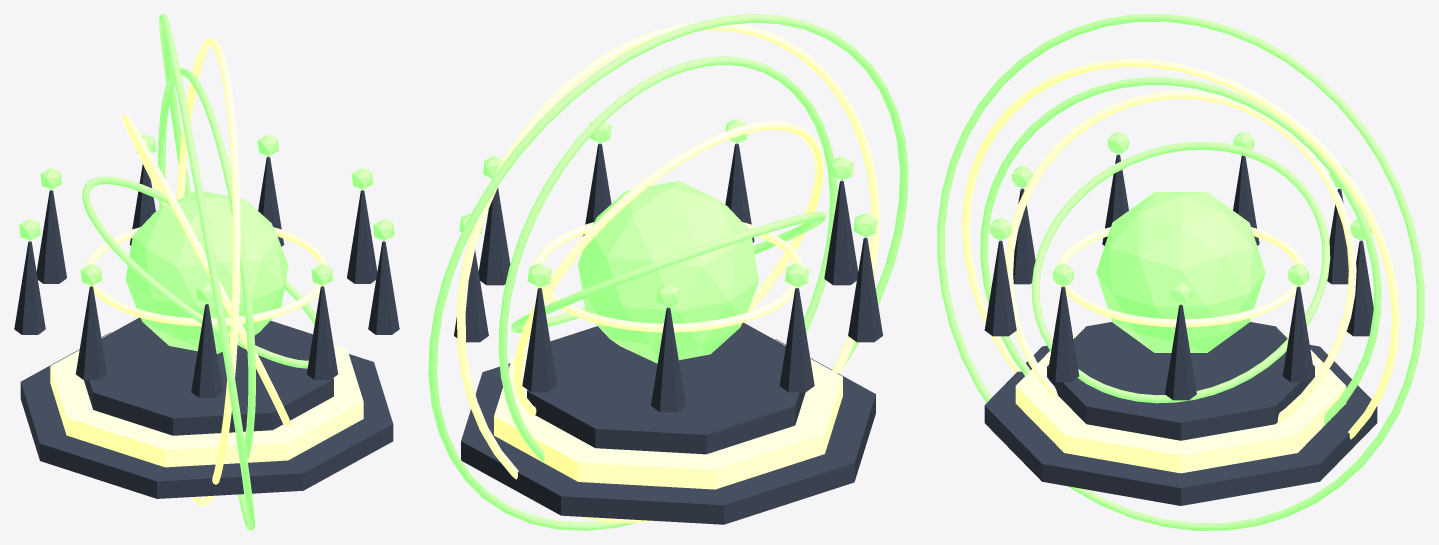
File: gpu-blender-v18.glb
3 renders of one model, left to right at view 1: azimuth 30°, elevation 25°; view 2: azimuth 150°, elevation 25°; view 3: azimuth 270°, elevation 25°, orthographic. The views are drawn at different scales.
Parts seen in each view (by area): view 1: Cylinder.002, Cylinder, SovereignCore_zoth-ascii-magic, Cylinder.001, Torus.005, Torus.004, Torus.003, Torus.001, Torus.002, Torus, Cone.006, Cone.004 (+7 smaller); view 2: Cylinder.002, SovereignCore_zoth-ascii-magic, Cylinder, Cylinder.001, Torus.005, Torus.004, Torus.003, Torus.002, Torus.001, Torus, Cone.003, Cone.005 (+7 smaller); view 3: SovereignCore_zoth-ascii-magic, Cylinder.002, Cylinder, Cylinder.001, Torus.005, Torus.004, Torus.003, Torus.002, Torus.001, Torus, Cone, Cone.001 (+7 smaller).
Part boxes in pixels (bbox=[...]): Cylinder.002: bbox=[84, 317, 333, 435]; Cylinder: bbox=[20, 332, 393, 498]; SovereignCore_zoth-ascii-magic: bbox=[125, 191, 288, 353]; Cylinder.001: bbox=[50, 324, 363, 467]; Torus.005: bbox=[159, 14, 254, 530]; Torus.004: bbox=[176, 38, 240, 506]; Torus.003: bbox=[158, 68, 255, 459]; Torus.001: bbox=[82, 176, 316, 368]; Torus.002: bbox=[122, 114, 290, 426]; Torus: bbox=[85, 227, 327, 326]; Cone.006: bbox=[191, 304, 222, 397]; Cone.004: bbox=[14, 241, 45, 334]; Cylinder.002: bbox=[527, 322, 805, 454]; SovereignCore_zoth-ascii-magic: bbox=[578, 181, 758, 363]; Cylinder: bbox=[461, 339, 875, 524]; Cylinder.001: bbox=[494, 330, 842, 489]; Torus.005: bbox=[428, 14, 908, 530]; Torus.004: bbox=[457, 22, 879, 523]; Torus.003: bbox=[498, 56, 838, 461]; Torus.002: bbox=[513, 121, 823, 415]; Torus.001: bbox=[511, 211, 825, 333]; Torus: bbox=[533, 222, 803, 332]; Cone.003: bbox=[651, 307, 685, 412]; Cone.005: bbox=[848, 237, 882, 342]; SovereignCore_zoth-ascii-magic: bbox=[1096, 192, 1265, 352]; Cylinder.002: bbox=[1047, 322, 1314, 440]; Cylinder: bbox=[984, 345, 1377, 505]; Cylinder.001: bbox=[1015, 334, 1346, 473]; Torus.005: bbox=[937, 14, 1424, 530]; Torus.004: bbox=[962, 59, 1399, 439]; Torus.003: bbox=[980, 77, 1381, 423]; Torus.002: bbox=[1006, 90, 1356, 423]; Torus.001: bbox=[1031, 141, 1330, 403]; Torus: bbox=[1057, 227, 1304, 327]; Cone: bbox=[1165, 304, 1196, 400]; Cone.001: bbox=[1282, 286, 1314, 382].
Bounding box in the file's own units: 4.41 × 5.93 × 5.46.
